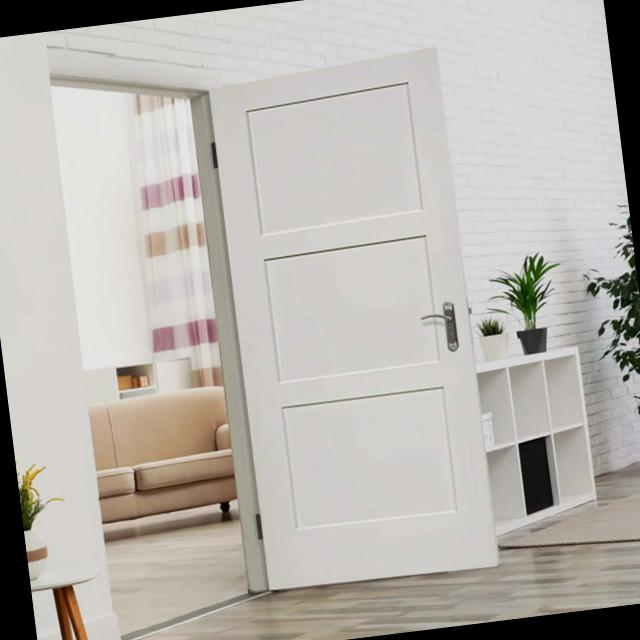door: (44, 47, 503, 640)
